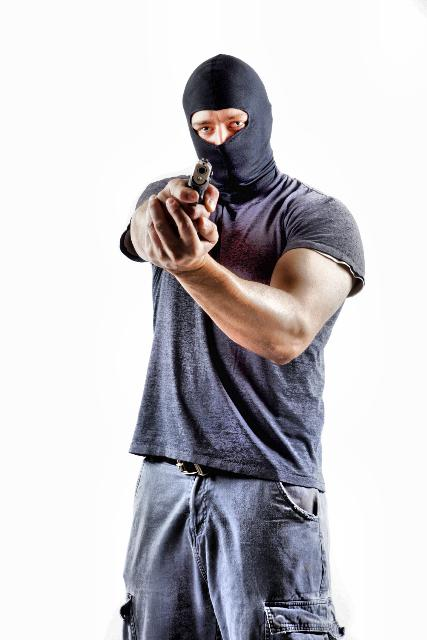pistol: (184, 154, 212, 203)
